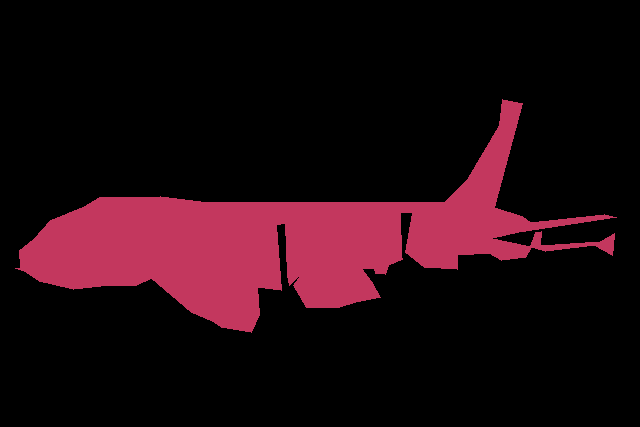Airplane: (15, 99, 616, 332)
